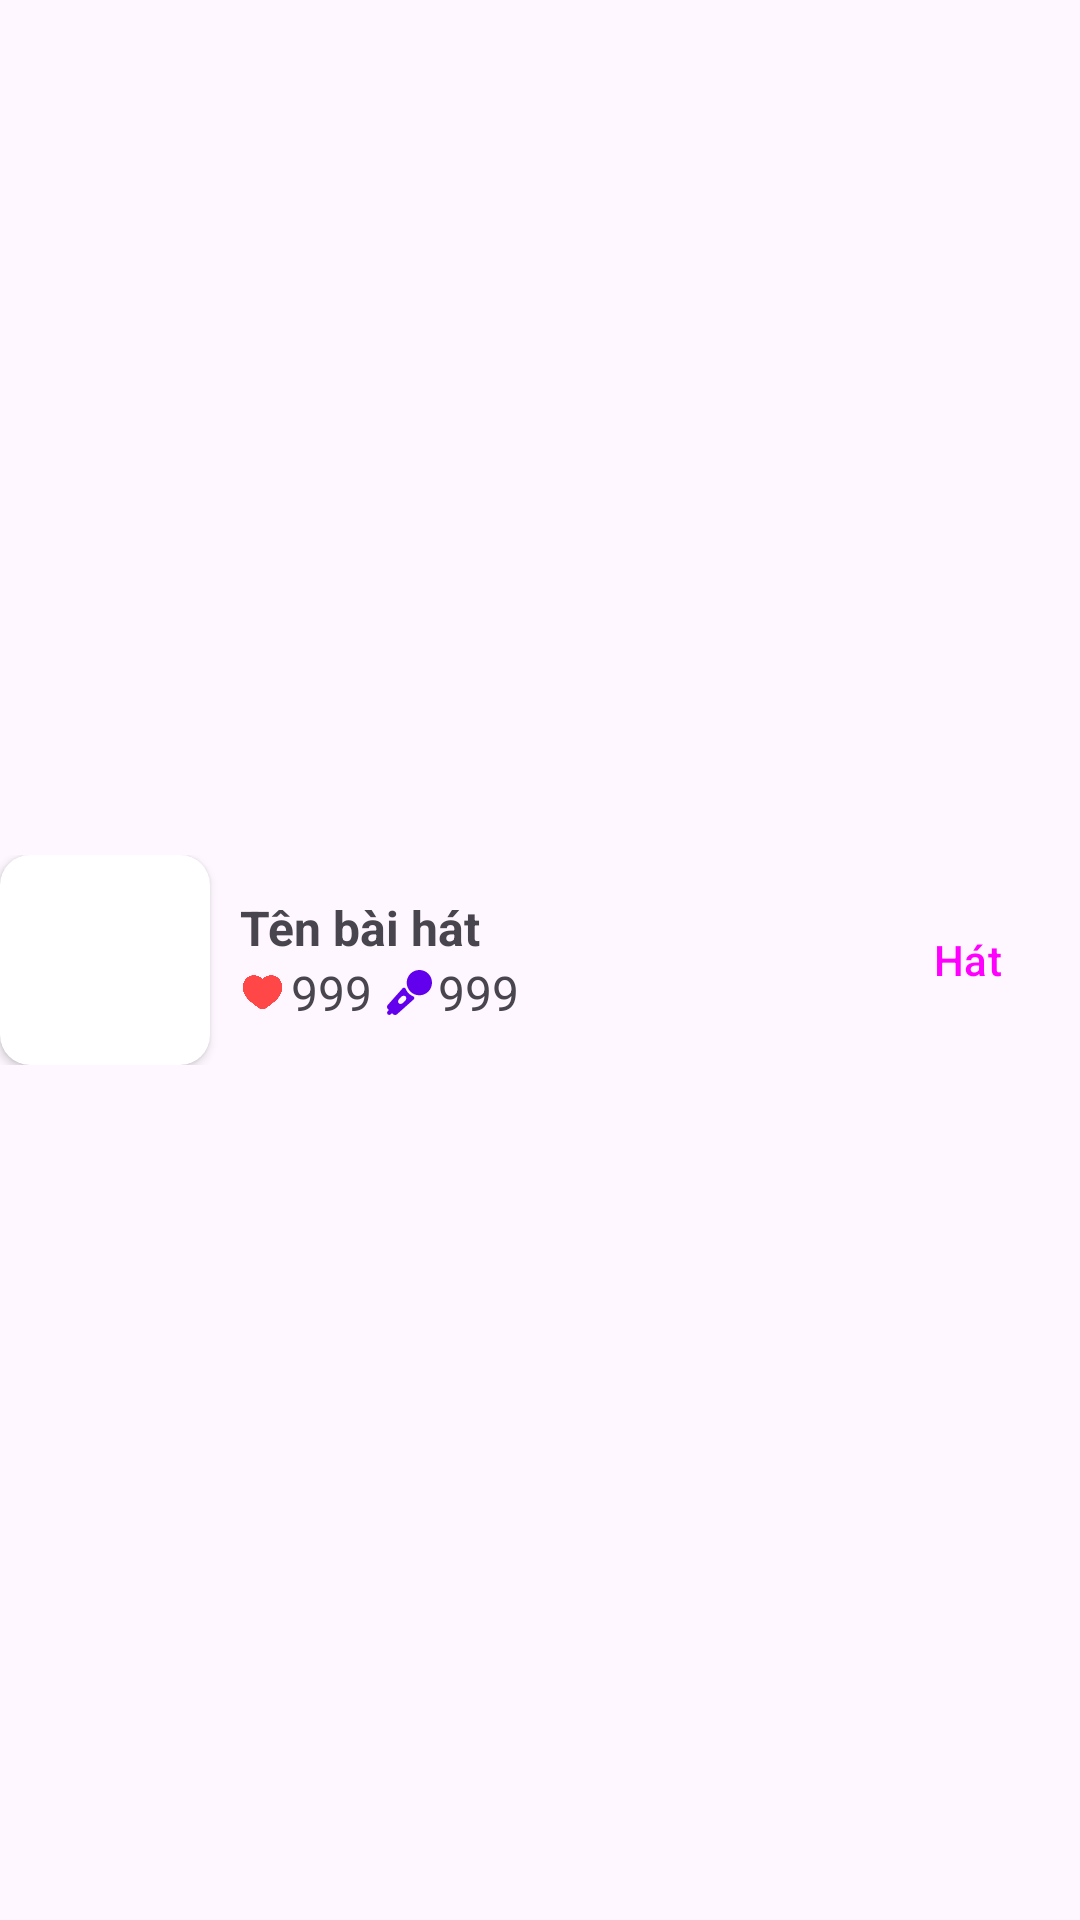

Screen size 1080 × 1920. Icon name, then its box in pixels as (x1, y1, x2, y2):
heart: (243, 975, 282, 1009)
karaoke: (387, 970, 432, 1015)
